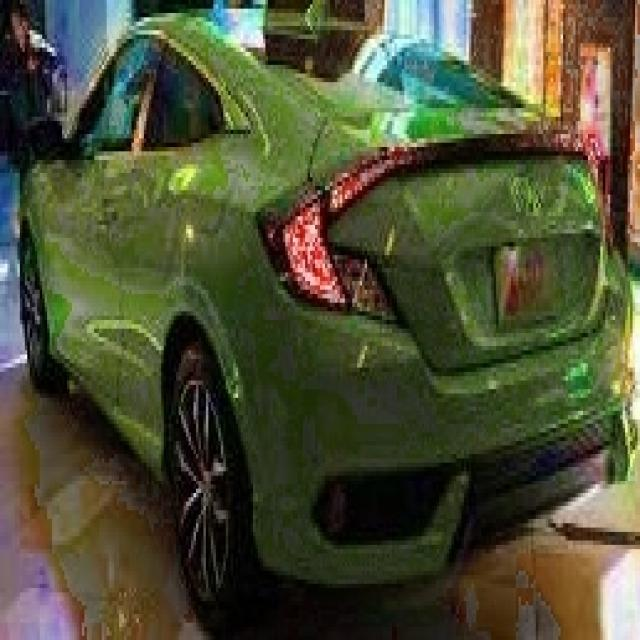green: (20, 9, 637, 614)
